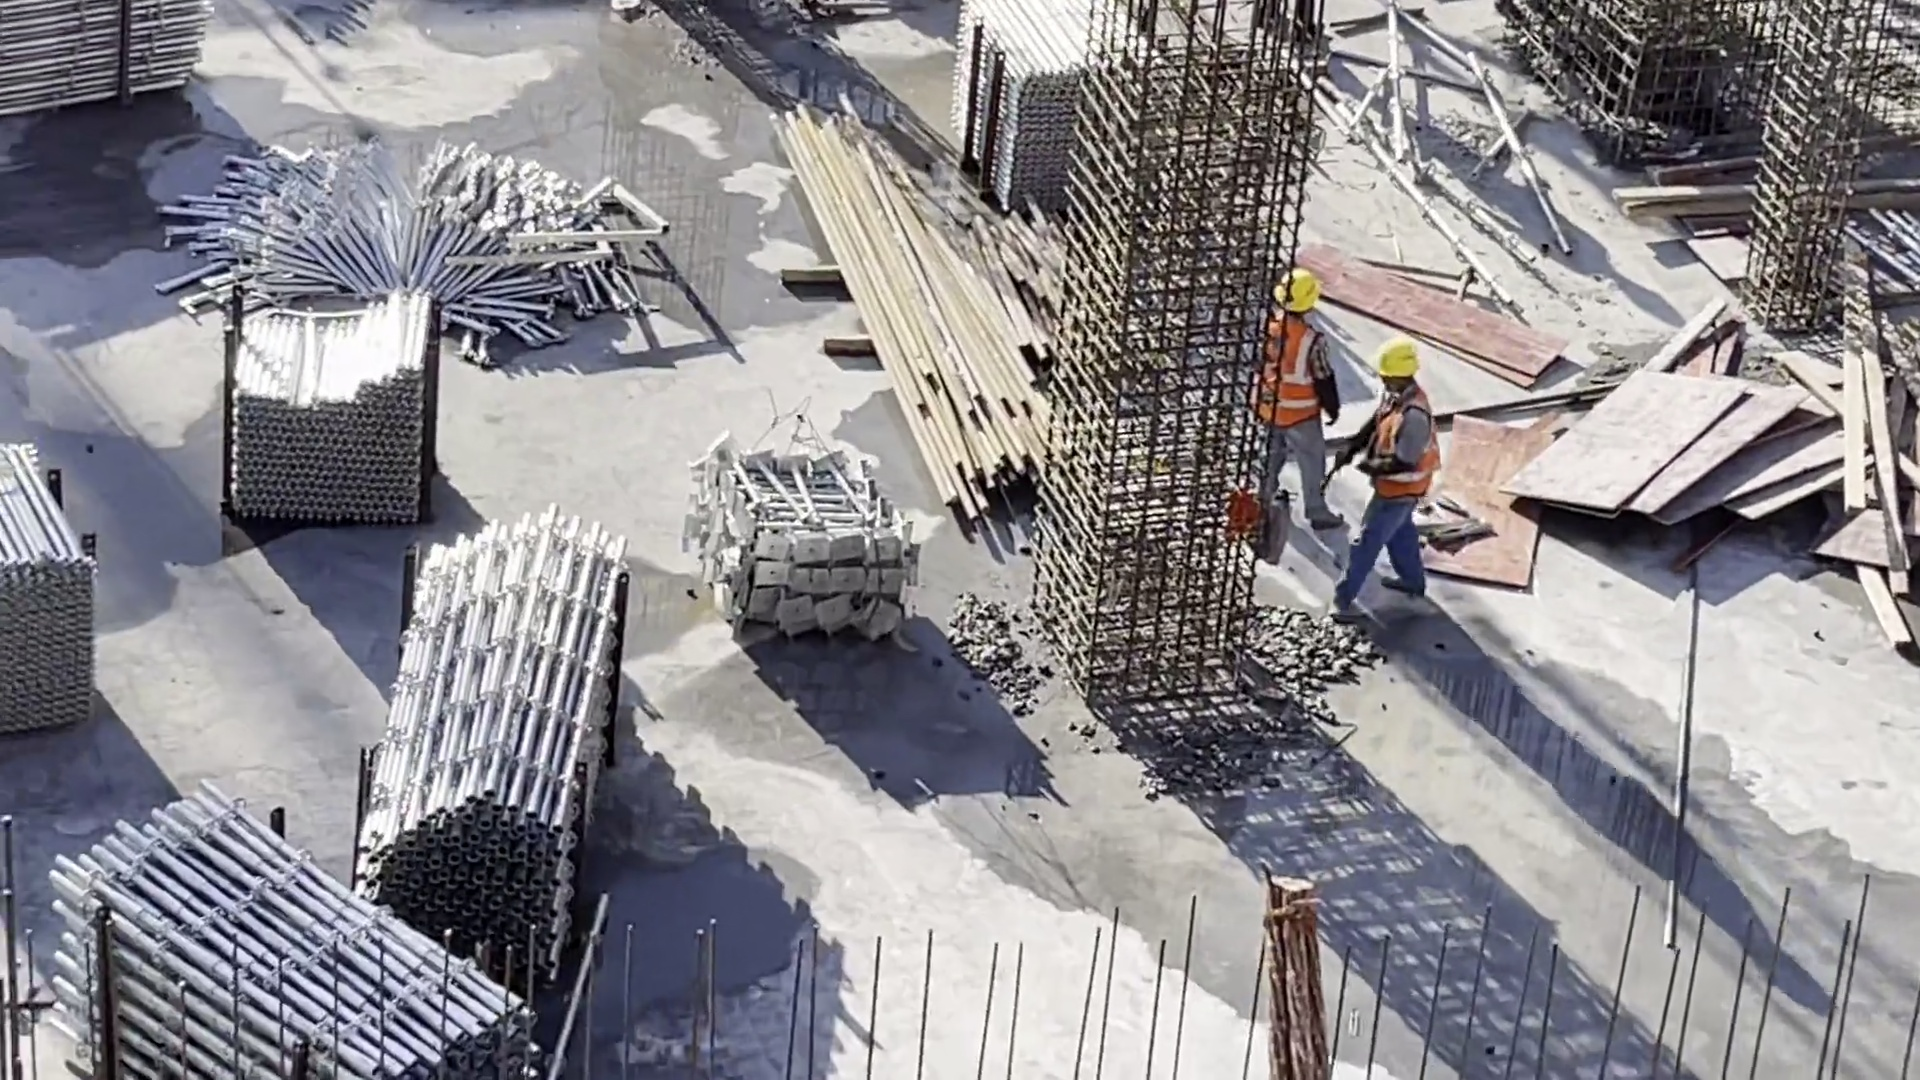board: (1308, 233, 1841, 542)
helmet: (1267, 255, 1326, 318), (1375, 346, 1416, 381)
person: (1255, 257, 1345, 542), (1349, 341, 1444, 611)
rebar: (764, 86, 1077, 528)
scaffold: (50, 787, 544, 1080), (375, 513, 613, 948), (916, 9, 1315, 235), (211, 292, 449, 524), (682, 415, 923, 642), (1, 438, 109, 734), (1, 9, 222, 105)
vest: (1348, 404, 1448, 508), (1249, 307, 1311, 449)
